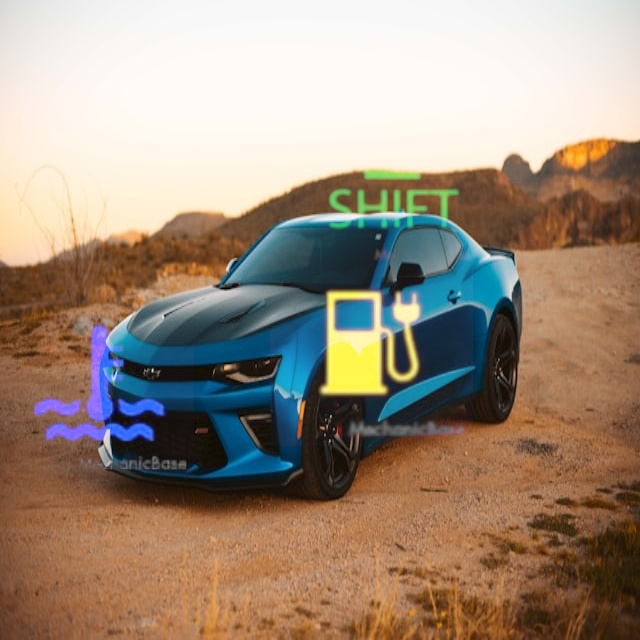symbol: (270, 243, 473, 446), (420, 2, 615, 197), (4, 289, 194, 479), (307, 97, 479, 269)
